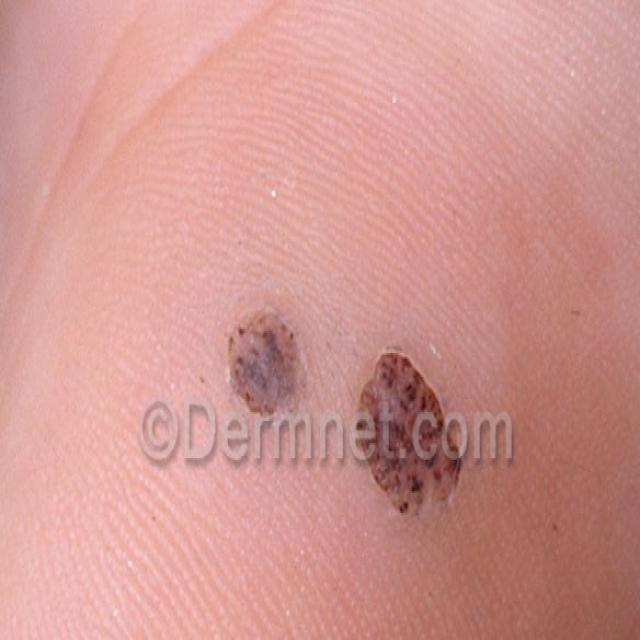Warts: (339, 306, 478, 554), (197, 251, 320, 446)
